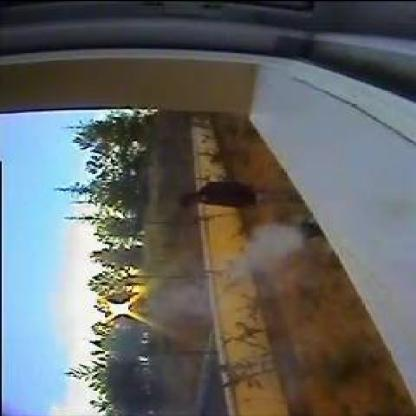-: (249, 227, 296, 270)
